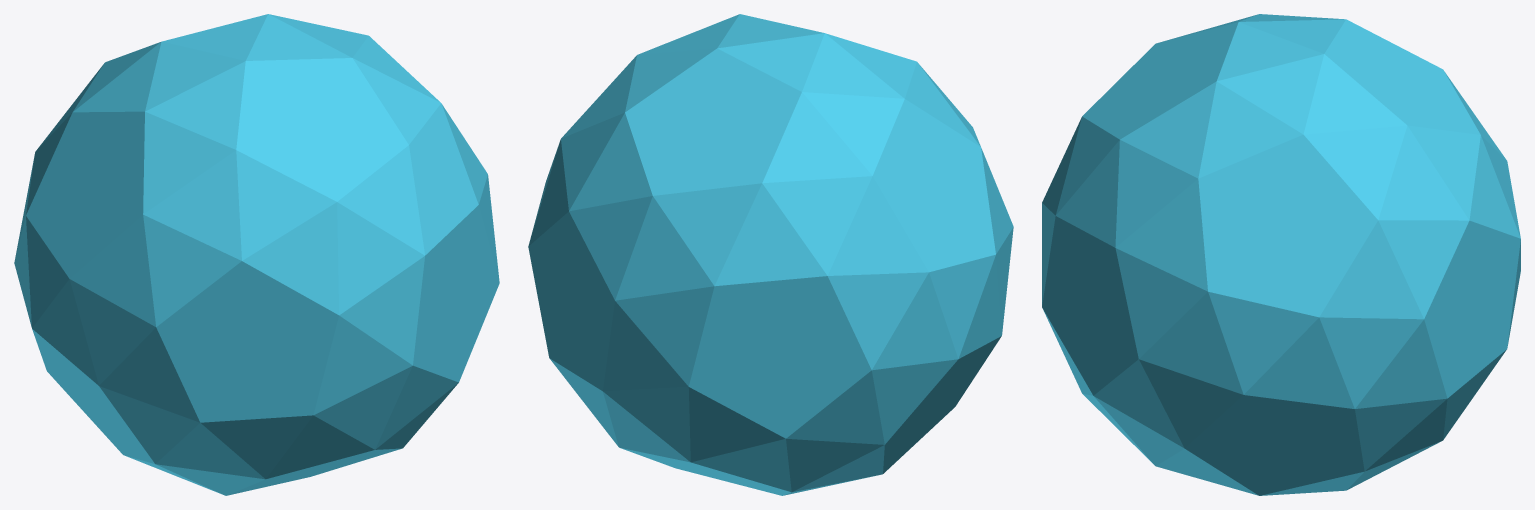
Rendered from fractalsnubdodecahedron0.glb.
The picture shows the model from 3 angles, left to right: view 1: azimuth 30°, elevation 25°; view 2: azimuth 150°, elevation 25°; view 3: azimuth 270°, elevation 25°; orthographic projection.
Size of the model in its own units: 10.88 by 10.88 by 10.88.
